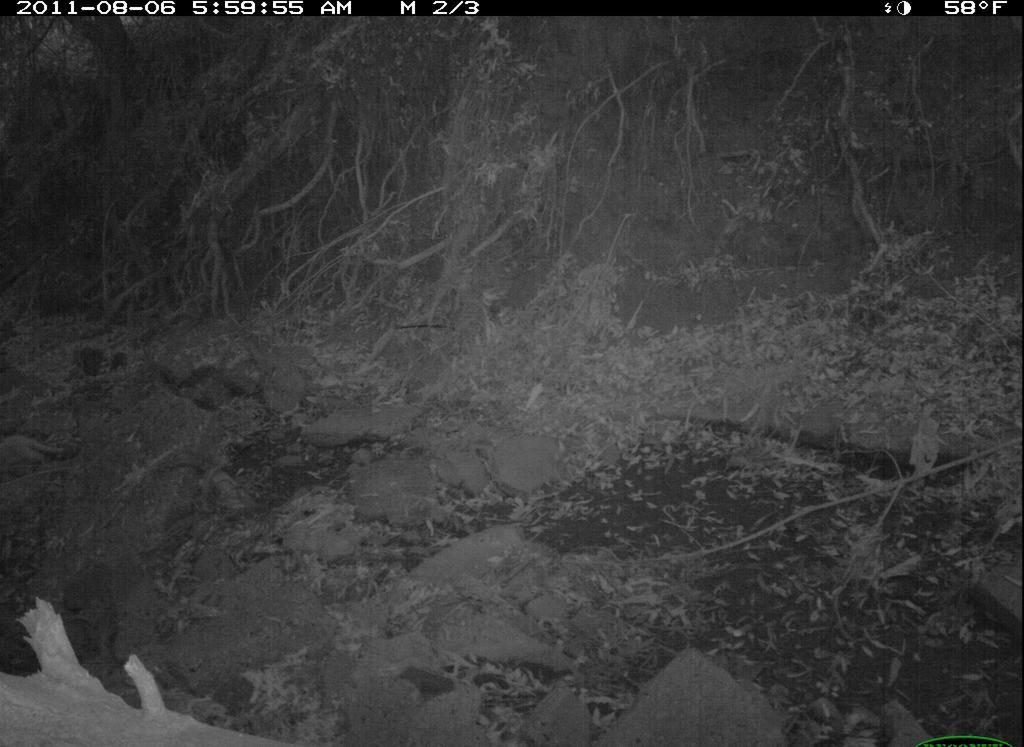cat: (2, 422, 73, 479)
